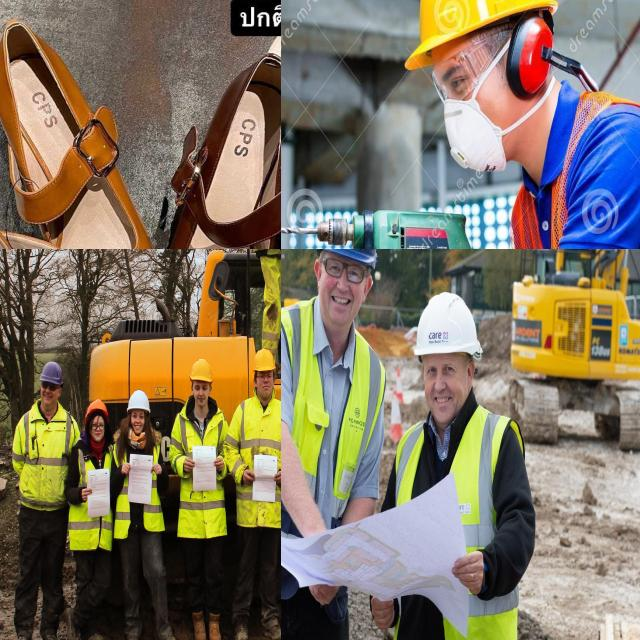Sandals: (0, 0, 176, 249), (130, 19, 281, 249)
face_mask: (427, 48, 528, 194)
face_nomask: (322, 254, 366, 325), (425, 357, 466, 425), (189, 381, 216, 409), (253, 372, 276, 403), (38, 383, 57, 411), (126, 412, 150, 432), (88, 417, 106, 440)
glasses: (427, 46, 483, 110), (322, 252, 366, 286), (40, 381, 57, 392), (90, 422, 106, 433), (258, 372, 274, 382)
hand_noglove: (451, 543, 487, 600), (210, 455, 227, 482), (180, 452, 196, 478), (240, 465, 256, 490), (148, 461, 164, 483), (78, 483, 94, 503), (119, 461, 132, 481), (276, 464, 281, 496)
head_helmet: (400, 0, 555, 65), (414, 291, 482, 362), (317, 249, 377, 267), (39, 360, 63, 388), (126, 389, 151, 415), (85, 399, 110, 424), (189, 358, 213, 383), (253, 348, 276, 373)
person: (405, 0, 640, 249), (394, 289, 530, 640), (281, 249, 379, 640), (169, 359, 230, 640), (12, 362, 73, 640), (227, 346, 281, 640), (116, 389, 178, 640), (71, 398, 119, 640), (239, 249, 281, 362), (64, 602, 81, 640), (259, 611, 281, 640), (206, 608, 225, 640), (190, 606, 207, 640), (231, 611, 249, 640), (156, 622, 178, 640), (11, 624, 34, 640), (39, 624, 60, 640), (122, 624, 141, 640)
vest: (394, 404, 525, 640), (281, 298, 381, 563), (227, 394, 281, 532), (172, 410, 230, 538), (18, 402, 76, 510), (116, 434, 166, 540), (70, 446, 116, 551)
